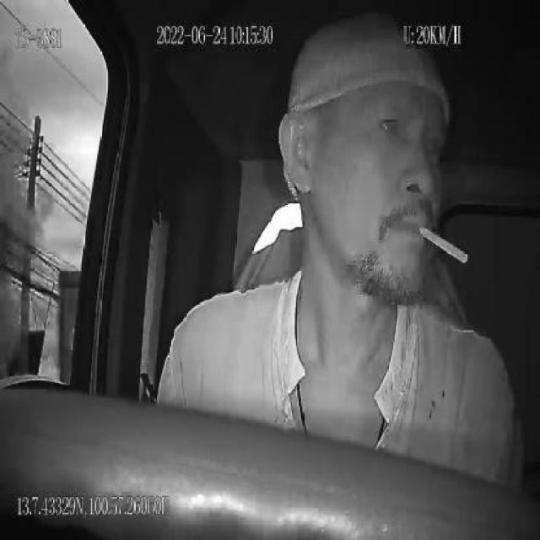smoking: (418, 226, 470, 266)
